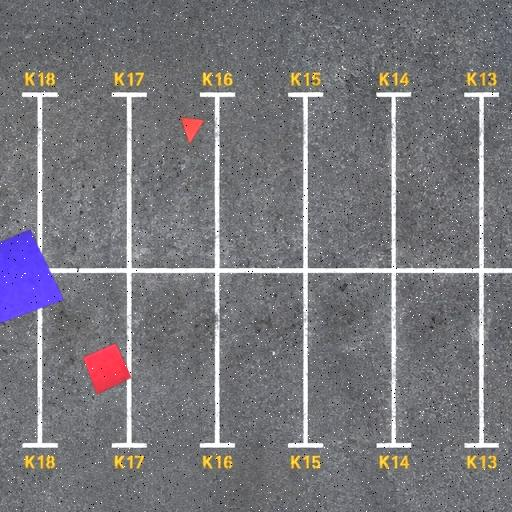BLUE_SQUARE: (0, 229, 65, 325)
RED_SQUARE: (82, 342, 132, 396)
